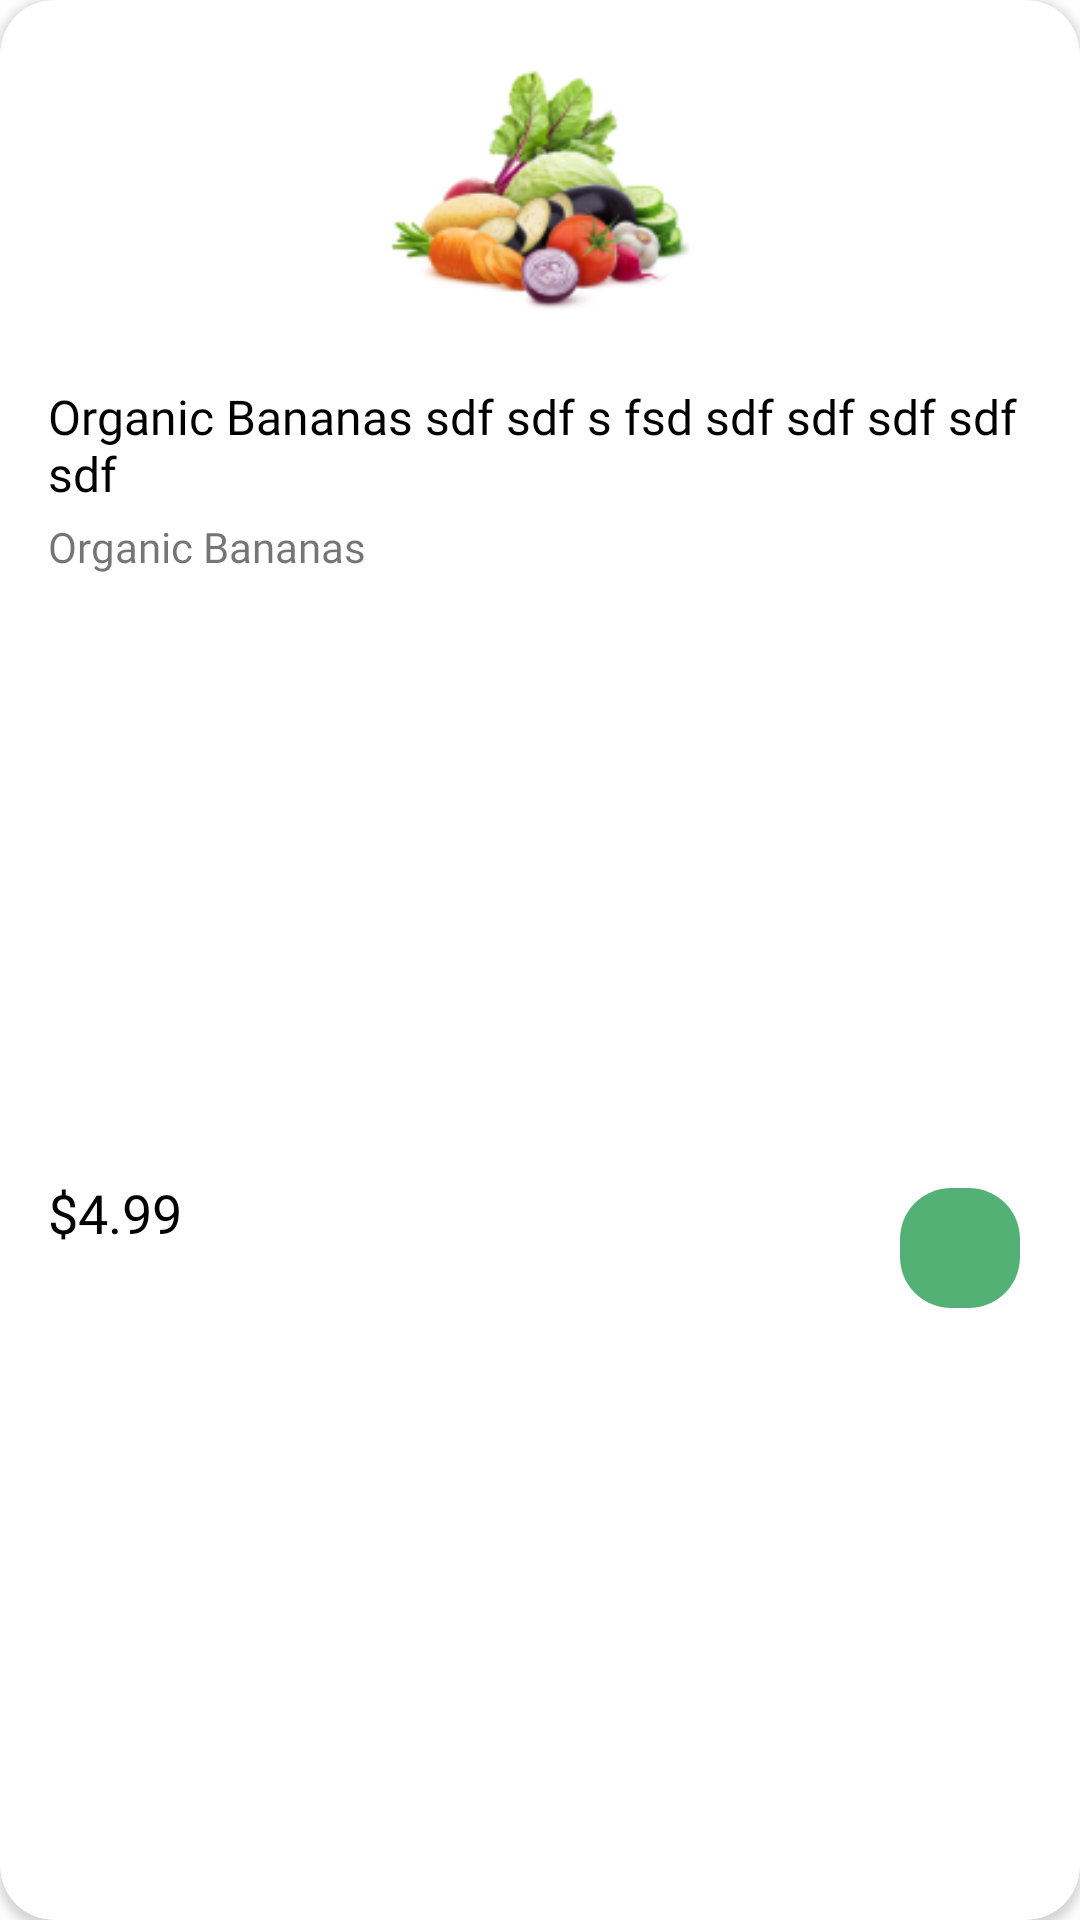

Icons on this 1080 × 1920 Android screen, each with its box as box(x1, y1, x2, y2):
vegetable: box(391, 71, 688, 307)
